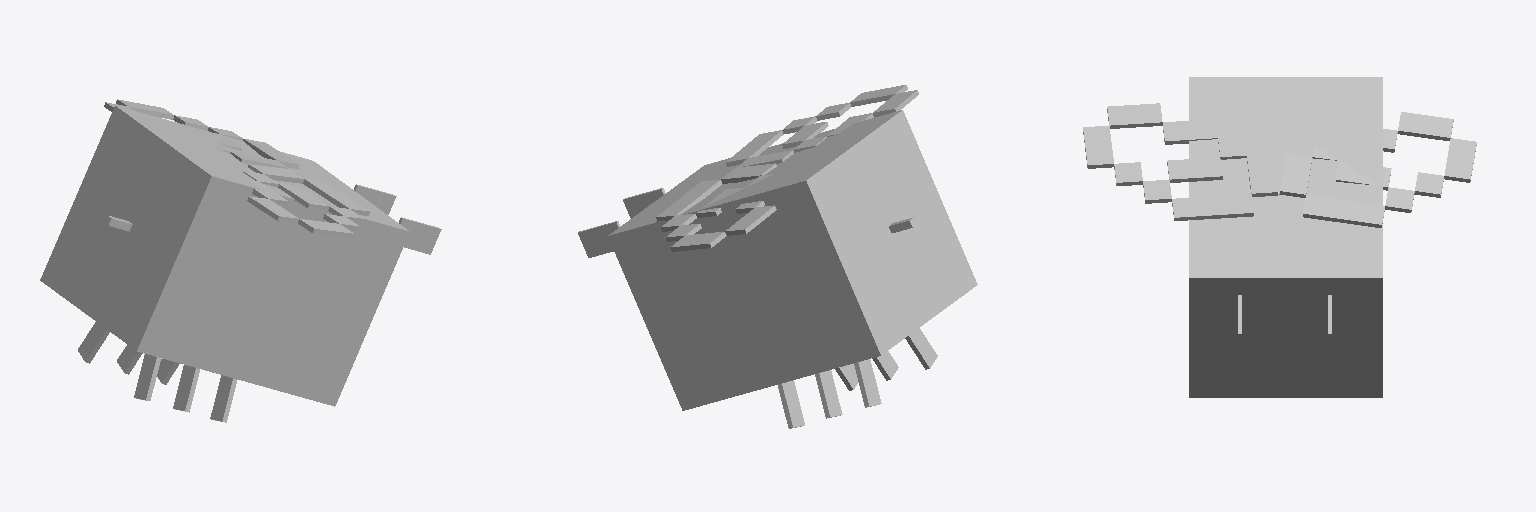
File: Bee_ (188).obj
3 views of the same model, side by side, from view 1: azimuth 30°, elevation 25°; view 2: azimuth 150°, elevation 25°; view 3: azimuth 270°, elevation 25° (orthographic).
Visible parts, largest first — view 1: b_Bee_MAT_0, l_Bee_MAT_0, r_Bee_MAT_0; view 2: b_Bee_MAT_0, r_Bee_MAT_0, l_Bee_MAT_0; view 3: b_Bee_MAT_0, l_Bee_MAT_0, r_Bee_MAT_0.
Part boxes in pixels (x1,y1,x2,y2): b_Bee_MAT_0: (40,105,441,422); l_Bee_MAT_0: (243,164,369,237); r_Bee_MAT_0: (104,99,299,169); b_Bee_MAT_0: (578,110,977,428); r_Bee_MAT_0: (656,163,776,251); l_Bee_MAT_0: (725,85,918,166); b_Bee_MAT_0: (1189,77,1382,397); l_Bee_MAT_0: (1083,103,1277,220); r_Bee_MAT_0: (1279,112,1476,227).
Bounding box in the file's own units: 0.3083 × 0.2415 × 0.3197.